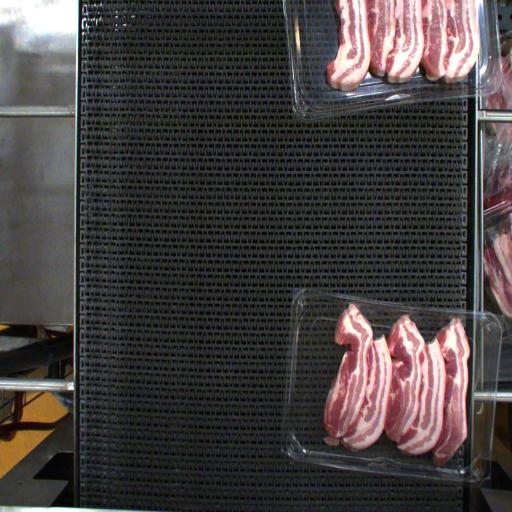packaging-error: (448, 313, 464, 325), (350, 301, 364, 310)
